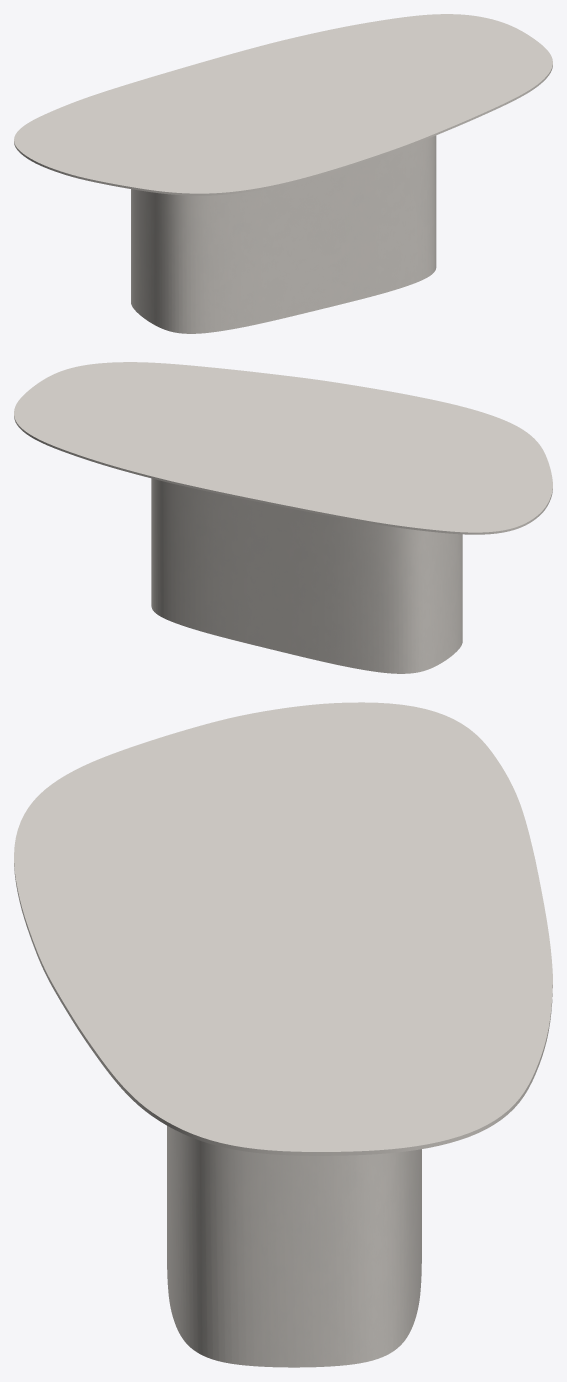
Rendered from pearlwhite_leaf2_facet_fixed.glb.
3 views of the same model, one above another, from view 1: azimuth 30°, elevation 25°; view 2: azimuth 150°, elevation 25°; view 3: azimuth 270°, elevation 25° (orthographic). The views are drawn at different scales.
Visible parts, largest first — view 1: facet_leaf2, fixed; view 2: facet_leaf2, fixed; view 3: facet_leaf2, fixed.
Boxes of the visible parts, x1,y1,x2,y2 form: facet_leaf2: (14,14,552,195); fixed: (131,135,436,333); facet_leaf2: (14,362,552,534); fixed: (151,478,462,673); facet_leaf2: (14,702,552,1155); fixed: (167,1126,421,1367).
Bounding box in the file's own units: 7.5 × 2.52 × 3.8.
Materials: 1 (1 with a texture image).
